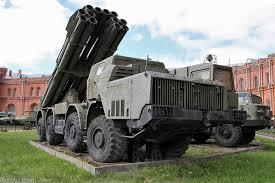MIL_SAM_TEL: (31, 5, 243, 163)
